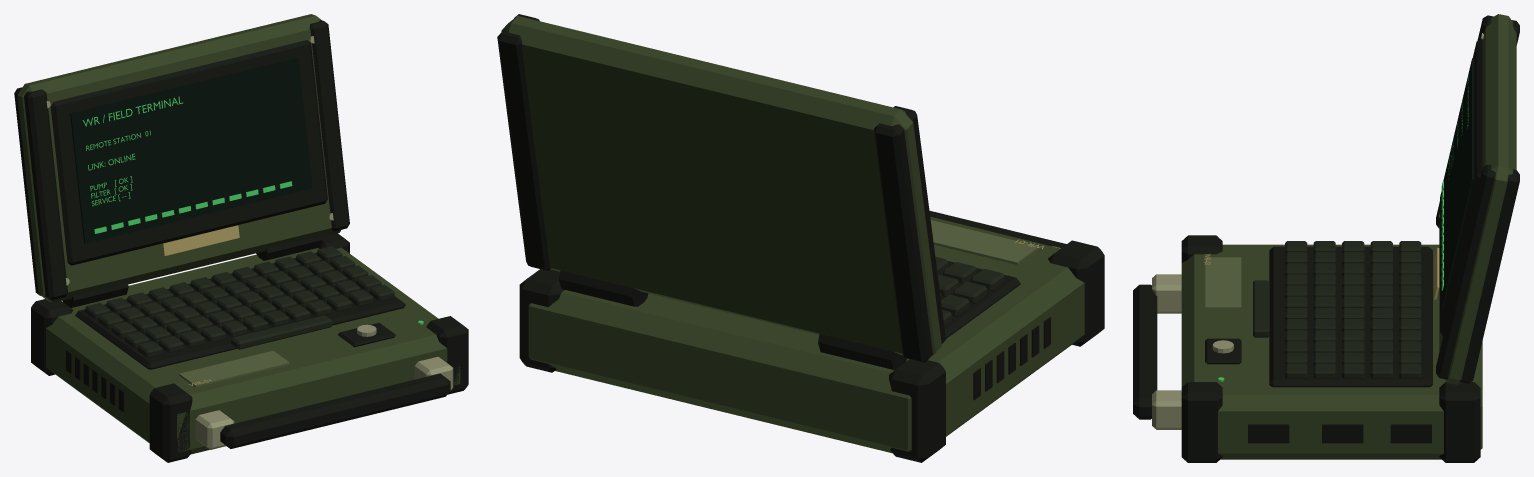
The model's file is WR_MilitaryLaptop_Open.fbx.
3 renders of one model, left to right at view 1: azimuth 30°, elevation 25°; view 2: azimuth 150°, elevation 25°; view 3: azimuth 270°, elevation 25°, orthographic. The views are drawn at different scales.
Visible parts, largest first — view 1: WR_MilitaryLaptop_Open; view 2: WR_MilitaryLaptop_Open; view 3: WR_MilitaryLaptop_Open.
Part boxes in pixels (bbox=[...]): WR_MilitaryLaptop_Open: bbox=[14, 14, 468, 462]; WR_MilitaryLaptop_Open: bbox=[497, 14, 1104, 462]; WR_MilitaryLaptop_Open: bbox=[1133, 14, 1519, 462].
Bounding box in the file's own units: 36.35 × 30.8 × 36.64.
1 material, 1 textured.
